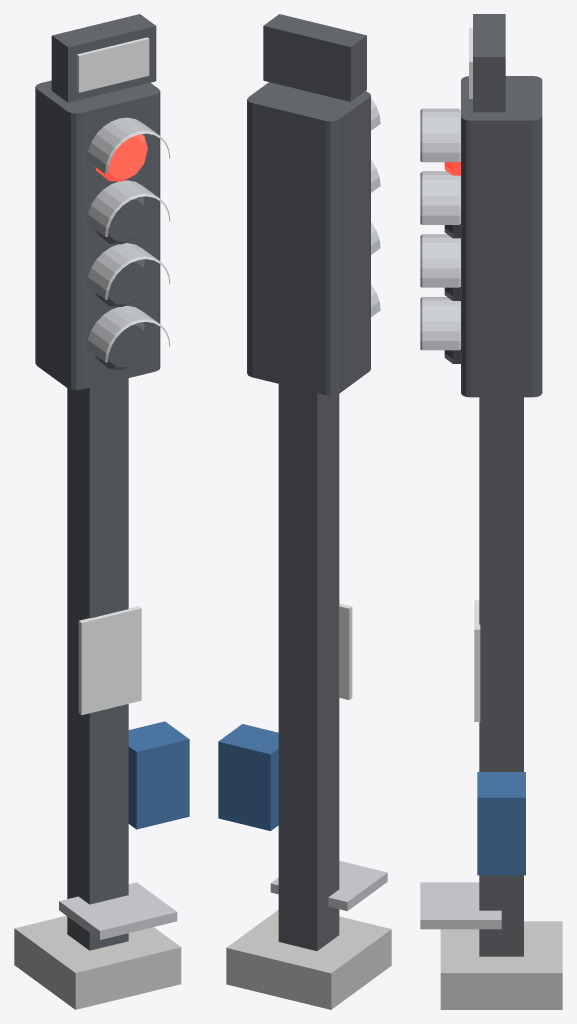
File: modern-rail-and-metro-network-colour-light-signal-f0826f08.glb
3 views of the same model, side by side, from view 1: azimuth 30°, elevation 25°; view 2: azimuth 150°, elevation 25°; view 3: azimuth 270°, elevation 25° (orthographic).
Parts seen in each view (by area): view 1: colour-light-signal; view 2: colour-light-signal; view 3: colour-light-signal.
Boxes of the visible parts, left/top/right/bottom form: colour-light-signal: left=14, top=14, right=189, bottom=1009; colour-light-signal: left=218, top=14, right=391, bottom=1009; colour-light-signal: left=420, top=14, right=562, bottom=1009.
Bounding box in the file's own units: 0.75 × 5.14 × 0.7001.
